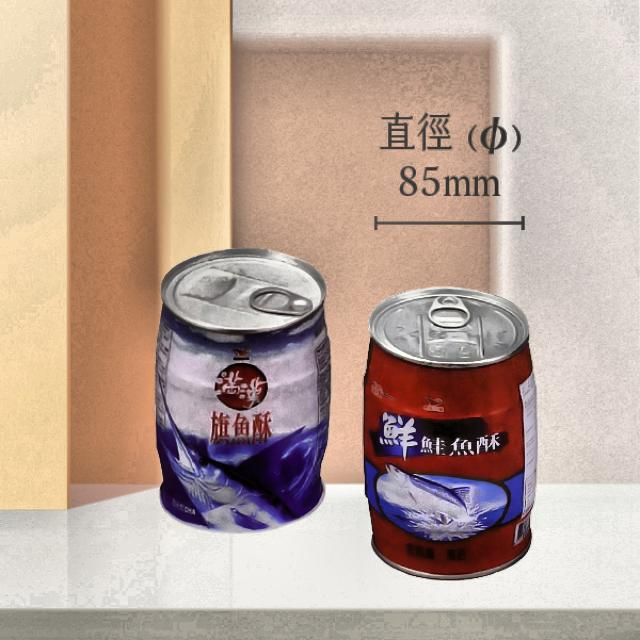can: (351, 274, 549, 583), (144, 237, 342, 540)
